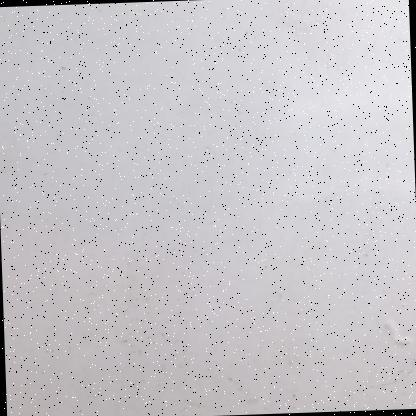Nocrack: (7, 15, 400, 410)
